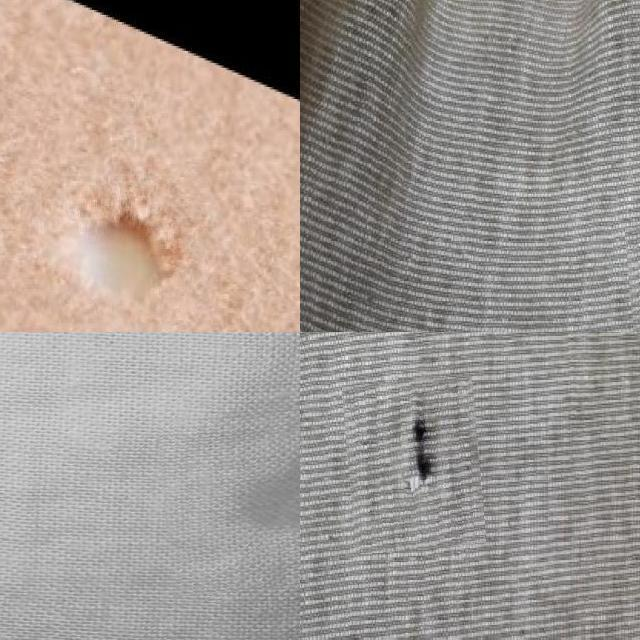Thread_other: (160, 403, 300, 591)
other: (44, 179, 208, 332), (344, 378, 482, 552)
